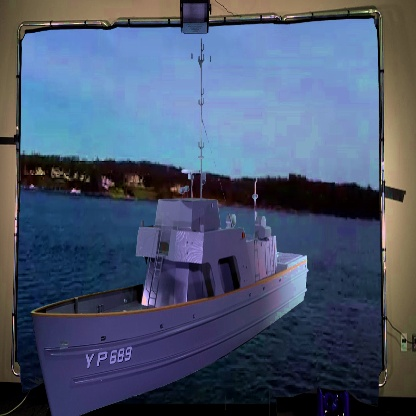YP689: (31, 33, 309, 415)
